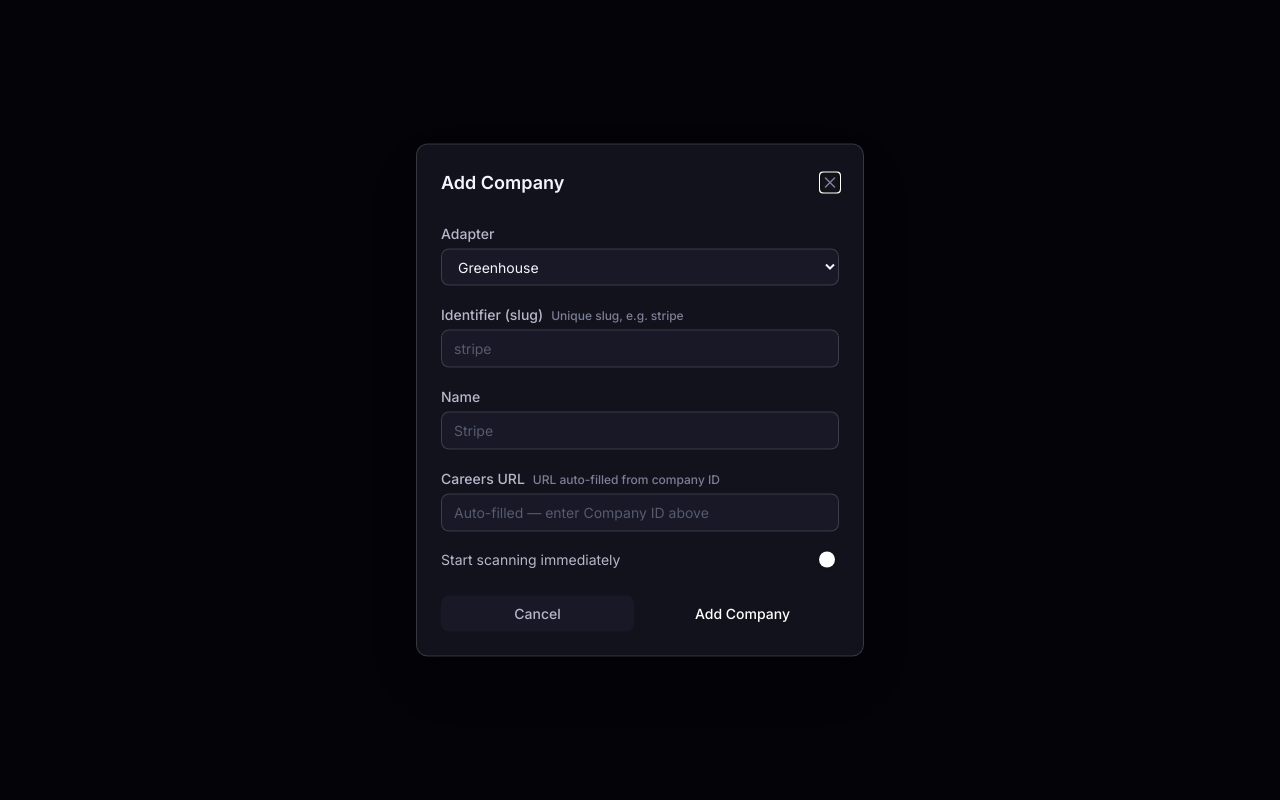
Test: AddCompanyModal › shows inline error for invalid Workday hosts and clears it when valid
Select "Workday" in the dropdown at (640, 267), box x1=441 y1=248 x2=839 y2=286
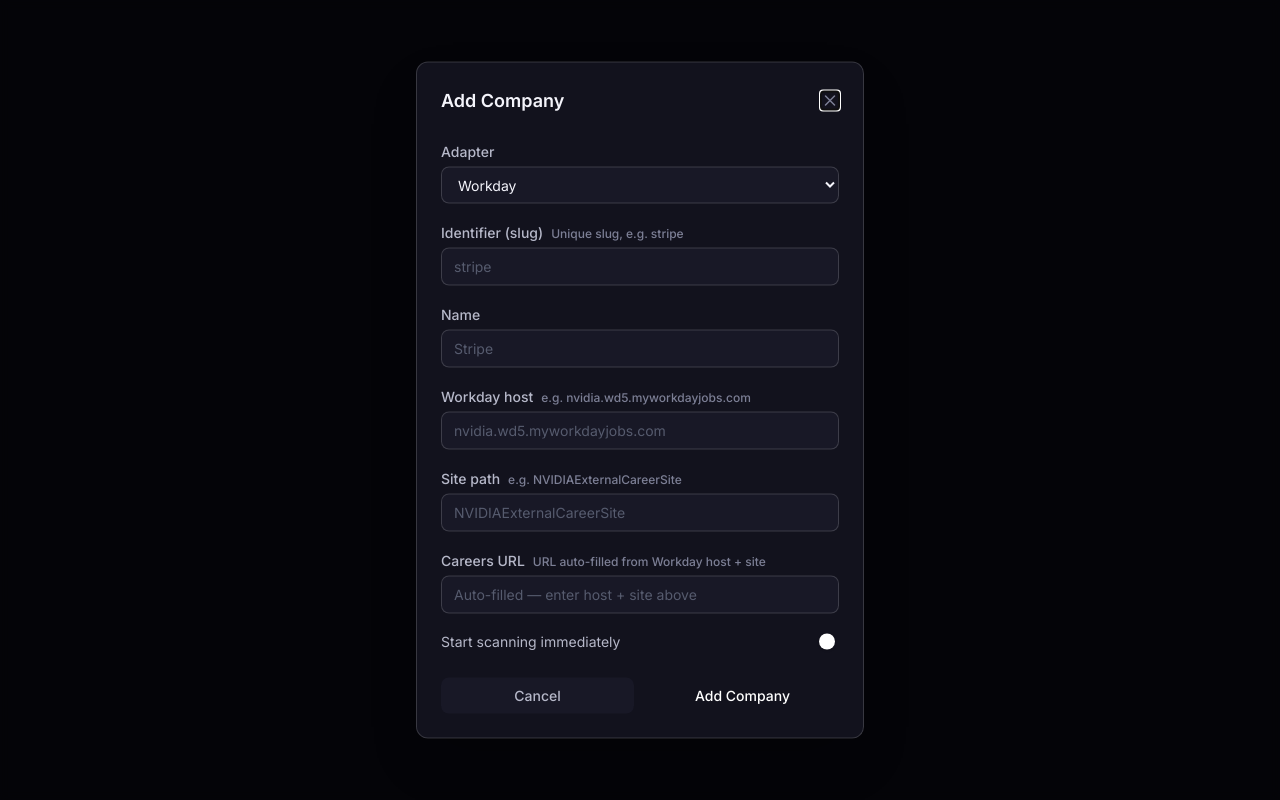
Type "foo.com" into the field named "Workday host" at (640, 430), box x1=441 y1=412 x2=839 y2=450
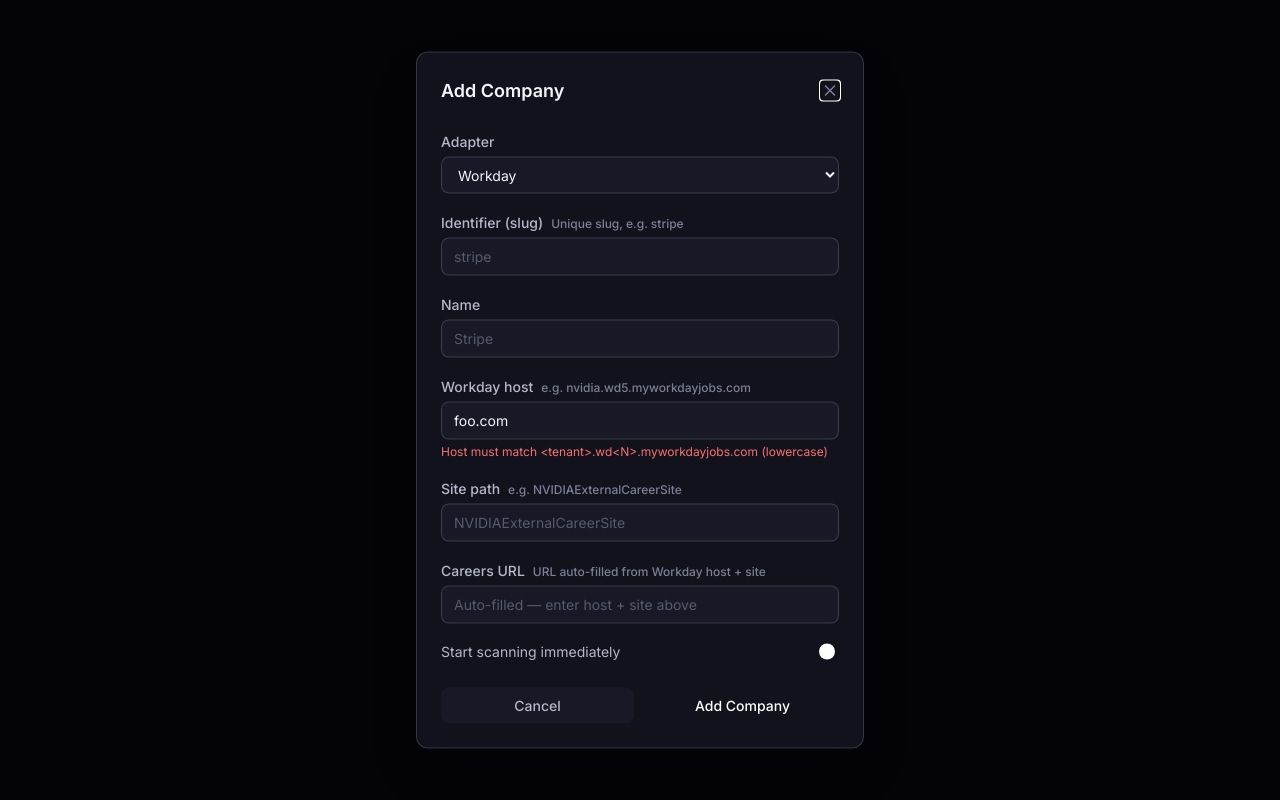
Check: the text "Host must match <tenant>.wd<N>.myworkdayjobs.com (lowercase)" is shown, box x1=441 y1=444 x2=839 y2=460
Replace the text in the field named "Workday host" with "nvidia.myworkdayjobs.com" at (640, 420), box x1=441 y1=402 x2=839 y2=440
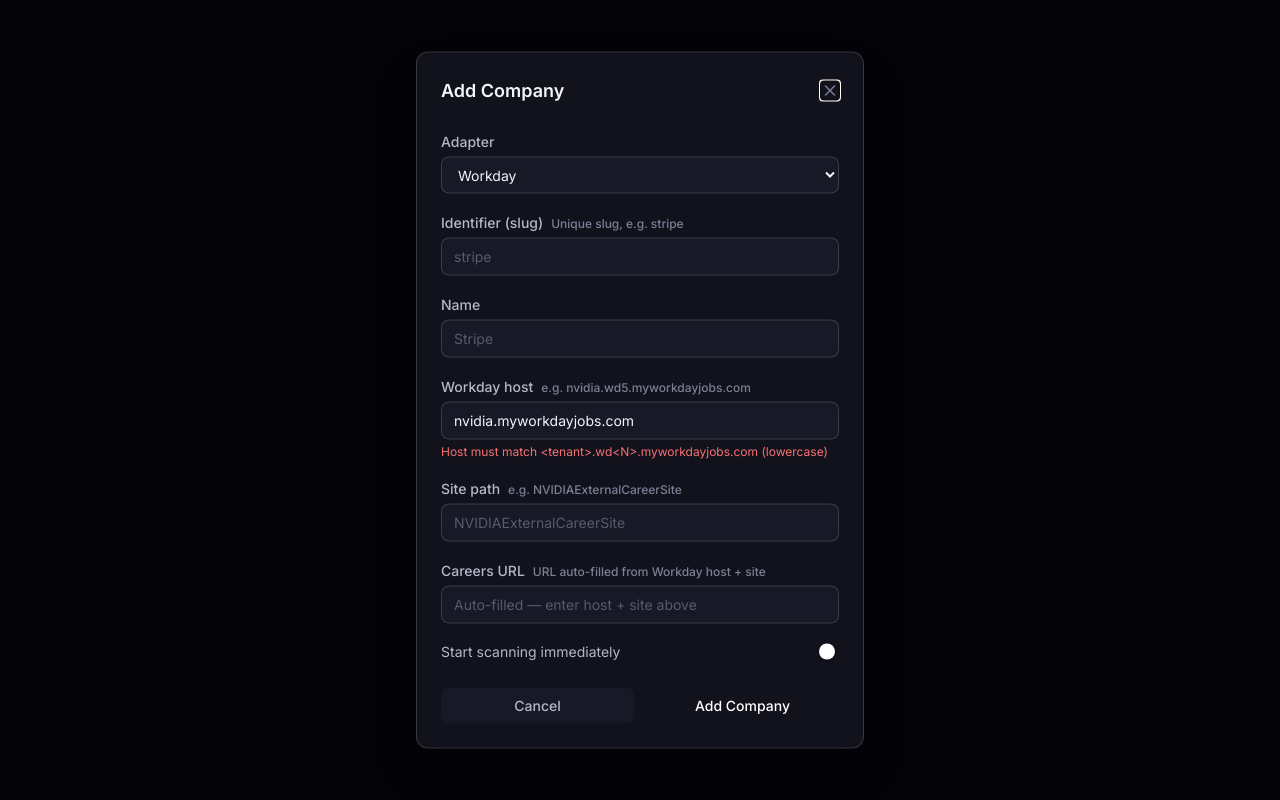
Check: the text "Host must match <tenant>.wd<N>.myworkdayjobs.com (lowercase)" is shown, box x1=441 y1=444 x2=839 y2=460
Replace the text in the field named "Workday host" with "NVIDIA.wd5.myworkdayjobs.com" at (640, 420), box x1=441 y1=402 x2=839 y2=440
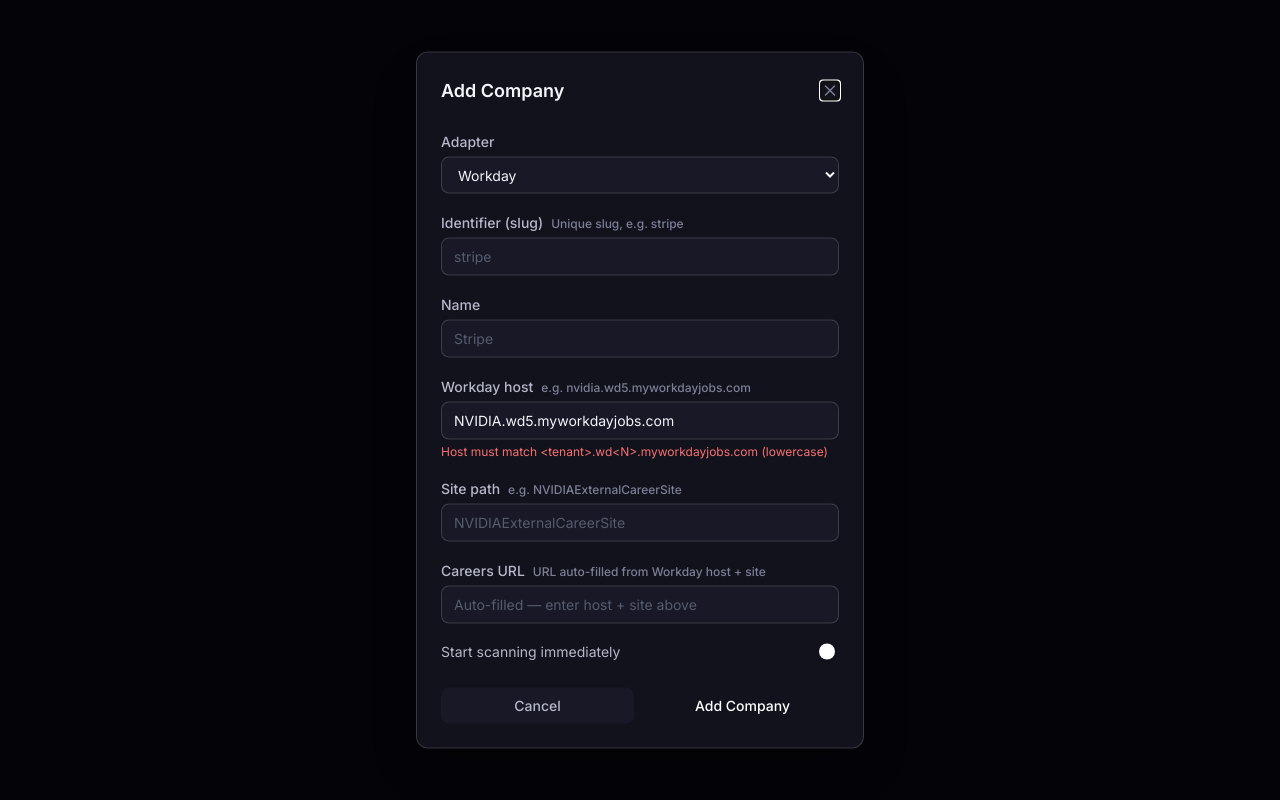
Check: the text "Host must match <tenant>.wd<N>.myworkdayjobs.com (lowercase)" is shown, box x1=441 y1=444 x2=839 y2=460
Replace the text in the field named "Workday host" with "nvidia.wd5.myworkdayjobs.com" at (640, 420), box x1=441 y1=402 x2=839 y2=440
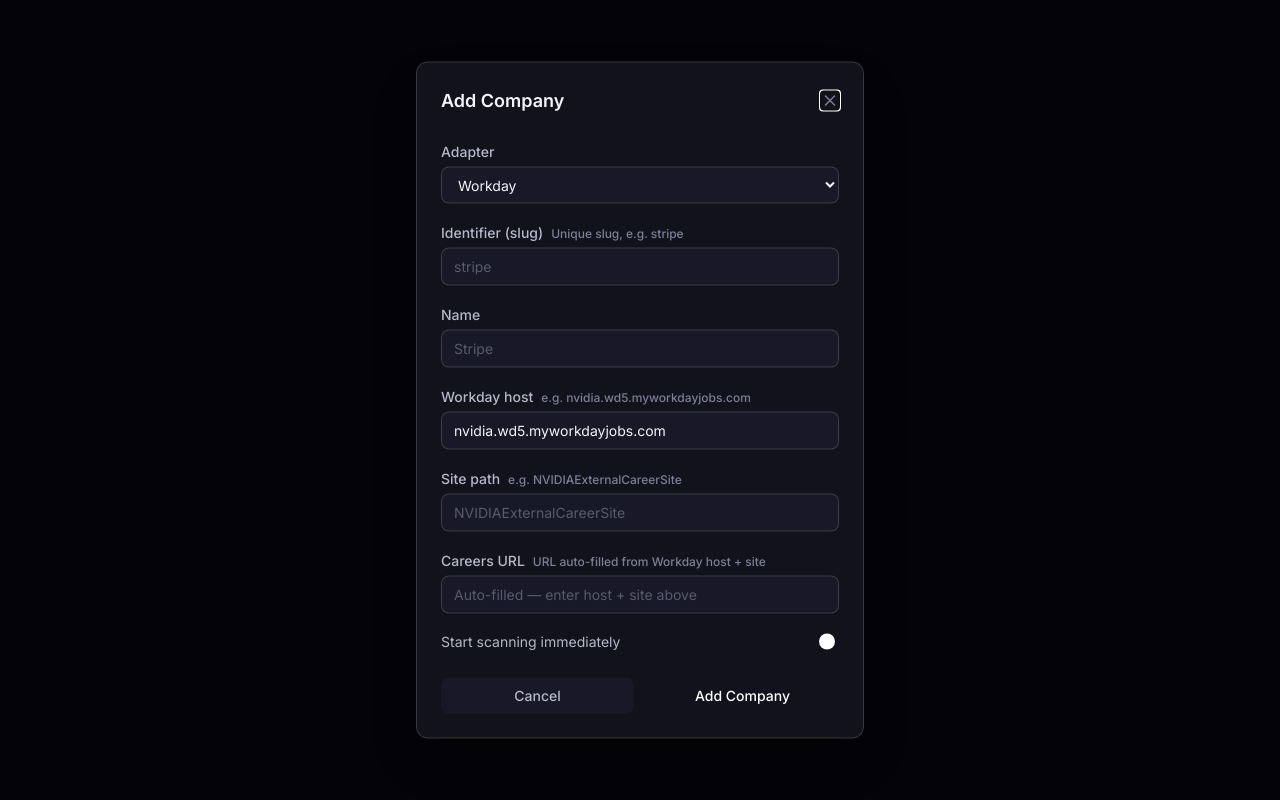
Check: the text "Host must match" is gone
